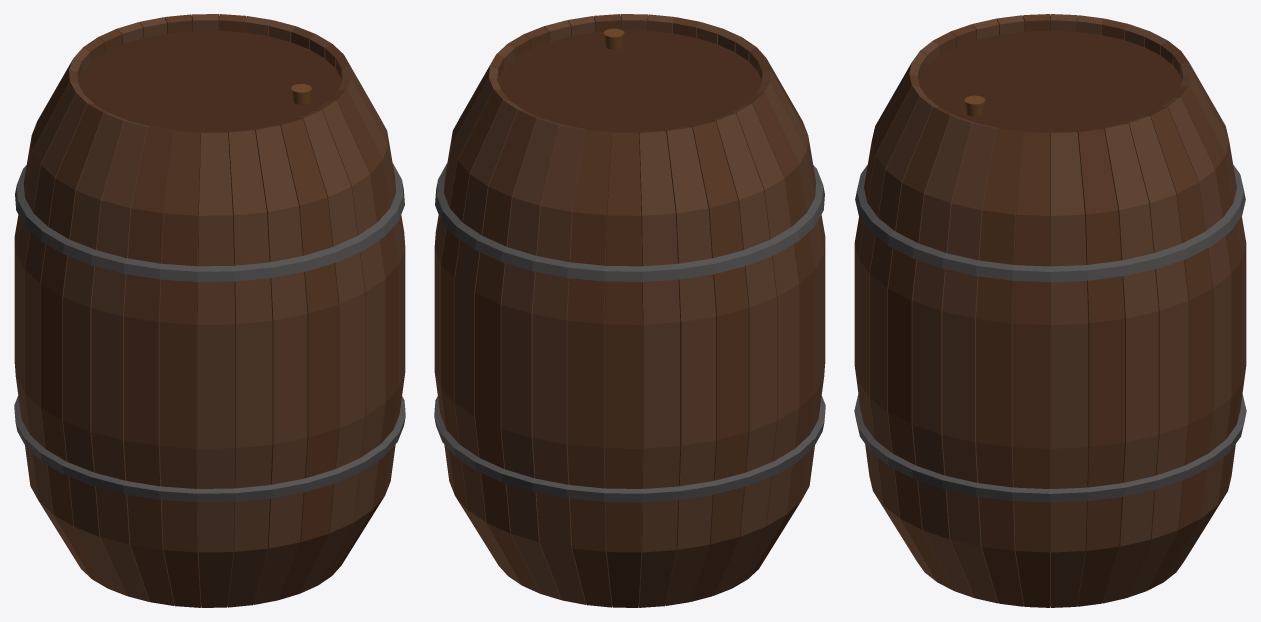
File: Barrel.fbx
3 views of the same model, side by side, from view 1: azimuth 30°, elevation 25°; view 2: azimuth 150°, elevation 25°; view 3: azimuth 270°, elevation 25° (orthographic).
Visible parts, largest first — view 1: Barrel.002; view 2: Barrel.002; view 3: Barrel.002.
Boxes of the visible parts, box(x1,y1,x2,y2) form: Barrel.002: box(14, 14, 405, 607); Barrel.002: box(434, 14, 825, 607); Barrel.002: box(854, 14, 1246, 607).
Size of the model in its own units: 288 by 386 by 288.
